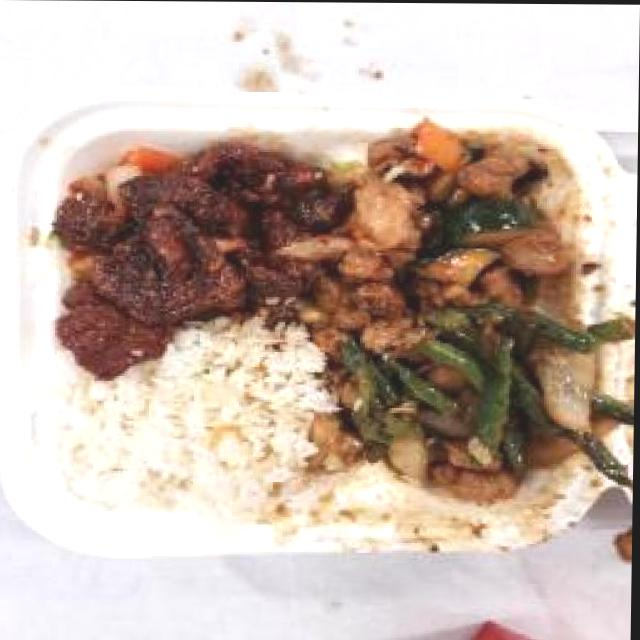Beijing Beef: (48, 130, 328, 380)
Kung Pao Chicken: (316, 117, 584, 333)
String Bean Chicken Breast: (334, 304, 629, 494)
White Steamed Rice: (62, 348, 327, 530)
